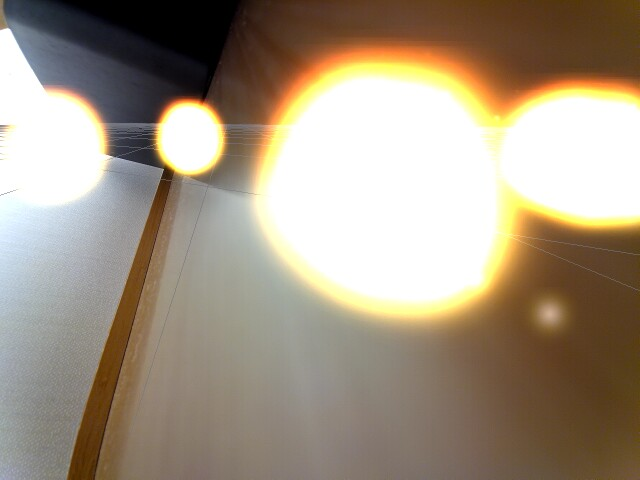firebig: (248, 42, 504, 322)
